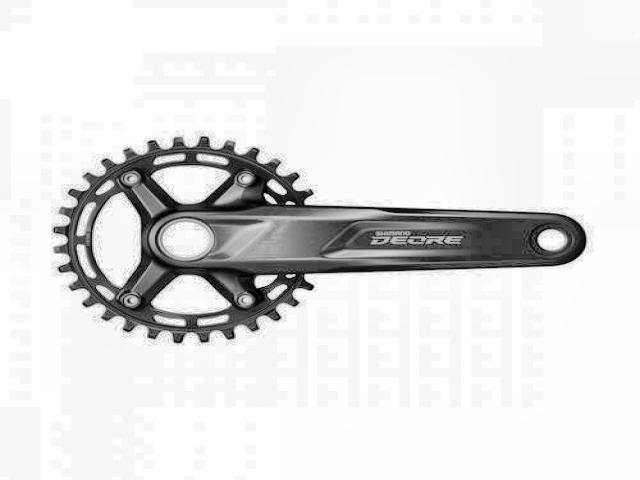cranks_set: (51, 135, 587, 344)
